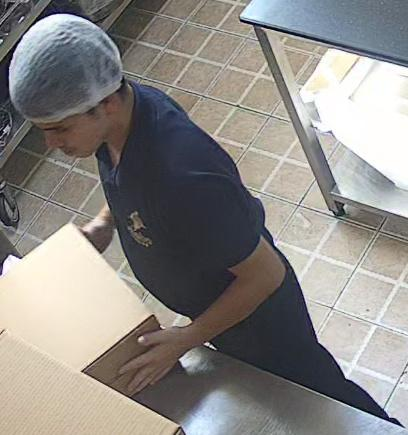no_apron: (93, 79, 232, 318)
